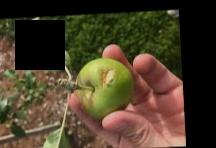rotten apple: (70, 54, 134, 118)
